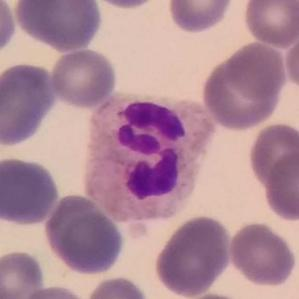Neutrophil: (77, 86, 216, 232)
RBC: (199, 41, 287, 132), (42, 195, 127, 278), (152, 213, 234, 298), (0, 60, 58, 150), (226, 220, 299, 288), (11, 0, 104, 53), (0, 154, 61, 228), (47, 47, 119, 109), (224, 40, 289, 99), (245, 120, 299, 191), (241, 0, 299, 49), (262, 148, 299, 224), (0, 247, 46, 299), (166, 0, 234, 35), (84, 273, 152, 299), (18, 282, 91, 299), (282, 24, 299, 96), (0, 0, 18, 57), (85, 0, 162, 10), (170, 290, 255, 299)
